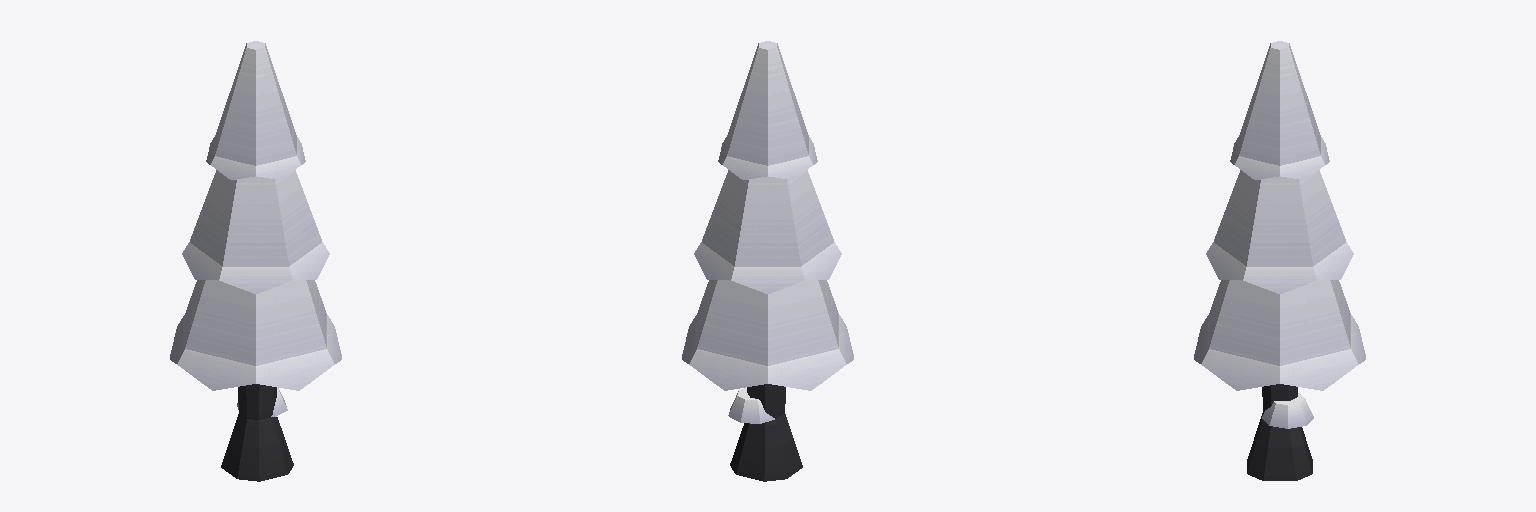
The picture shows the model from 3 angles: view 1: azimuth 30°, elevation 25°; view 2: azimuth 150°, elevation 25°; view 3: azimuth 270°, elevation 25°; orthographic projection.
Parts seen in each view (by area): view 1: tree.004; view 2: tree.004; view 3: tree.004.
Part boxes in pixels (bbox=[...]): tree.004: bbox=[170, 41, 341, 481]; tree.004: bbox=[682, 41, 853, 481]; tree.004: bbox=[1194, 41, 1365, 480].
Size of the model in its own units: 1.36 by 3.47 by 1.3.
Materials: 1 (1 with a texture image).